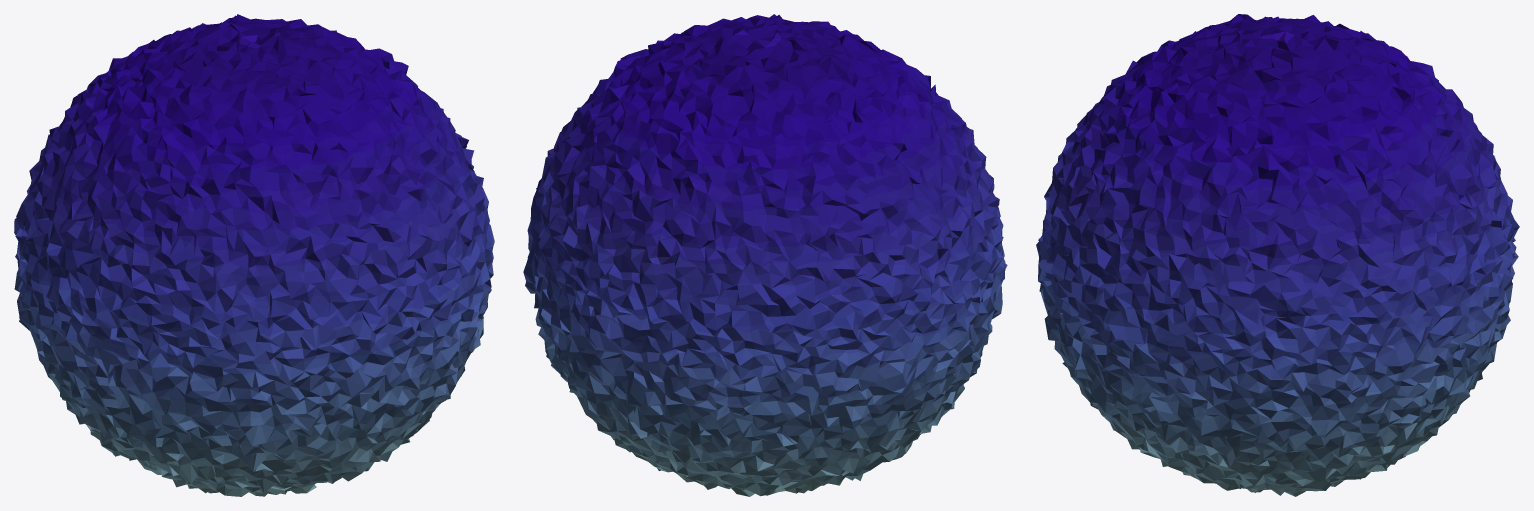
Rendered from Skybox.FBX.
3 renders of one model, left to right at view 1: azimuth 30°, elevation 25°; view 2: azimuth 150°, elevation 25°; view 3: azimuth 270°, elevation 25°, orthographic.
Visible parts, largest first — view 1: Skybox; view 2: Skybox; view 3: Skybox.
Boxes of the visible parts, <box> form: Skybox: <box>14,14,494,496</box>; Skybox: <box>523,14,1007,496</box>; Skybox: <box>1036,14,1519,496</box>.
Bounding box in the file's own units: 25.96 × 25.88 × 25.94.
